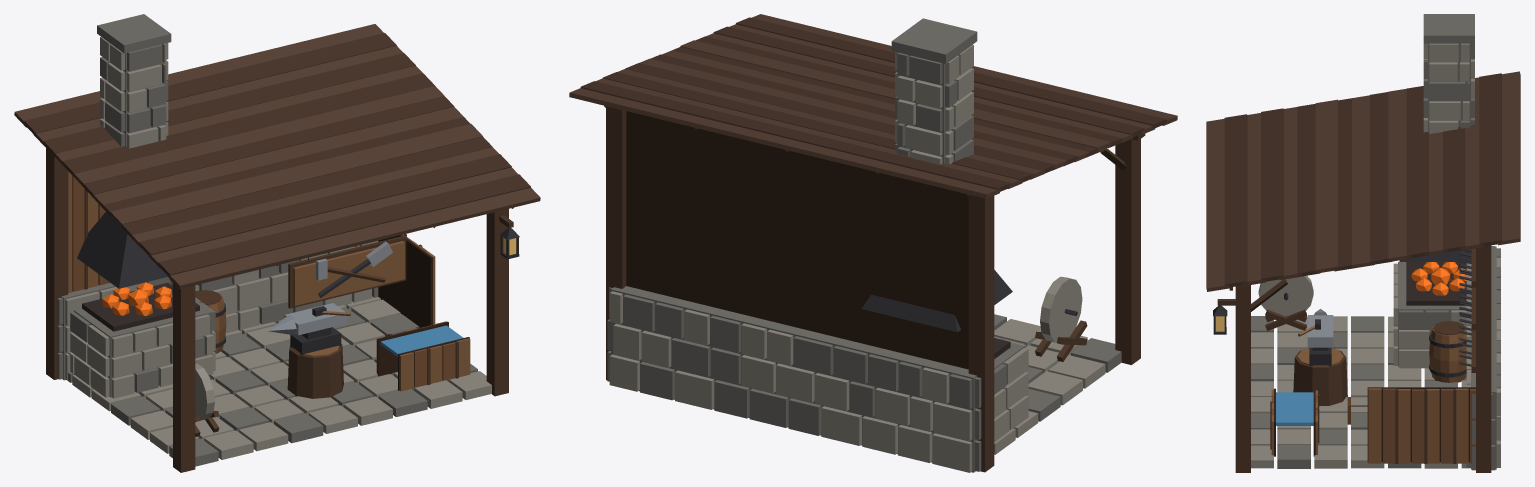
Rendered from Smithy.obj.
The picture shows the model from 3 angles, left to right: view 1: azimuth 30°, elevation 25°; view 2: azimuth 150°, elevation 25°; view 3: azimuth 270°, elevation 25°; orthographic projection. The views are drawn at different scales.
Visible parts, largest first — view 1: Smithy; view 2: Smithy; view 3: Smithy.
Part boxes in pixels (x1,y1,x2,y2): Smithy: [14, 14, 540, 472]; Smithy: [569, 14, 1177, 472]; Smithy: [1206, 14, 1520, 472].
Size of the model in its own units: 4.6 by 4.32 by 3.66.
